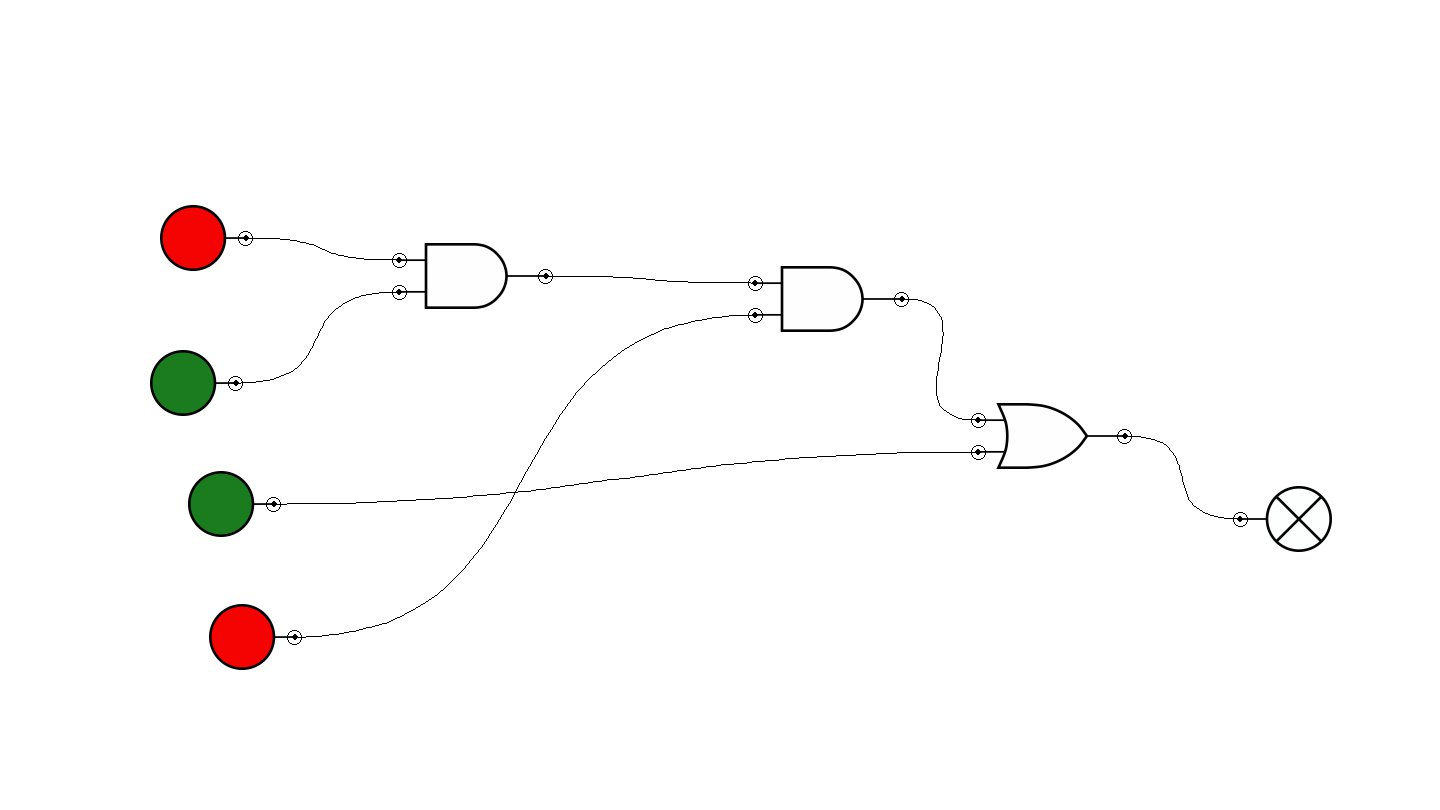and: (748, 266, 909, 332), (392, 243, 553, 309)
bulb: (1233, 486, 1332, 552)
or: (971, 403, 1132, 469)
switch_False: (160, 205, 253, 271), (209, 604, 302, 670)
switch_True: (150, 350, 243, 416), (188, 471, 281, 537)
